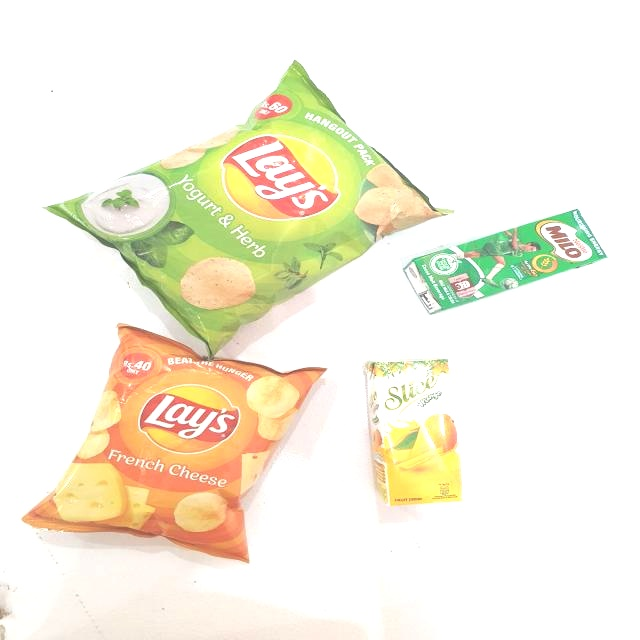lays-large: (64, 89, 429, 335)
lays-small: (55, 336, 300, 545)
milo-180ml: (413, 209, 605, 305)
slice-200ml: (379, 361, 459, 500)
